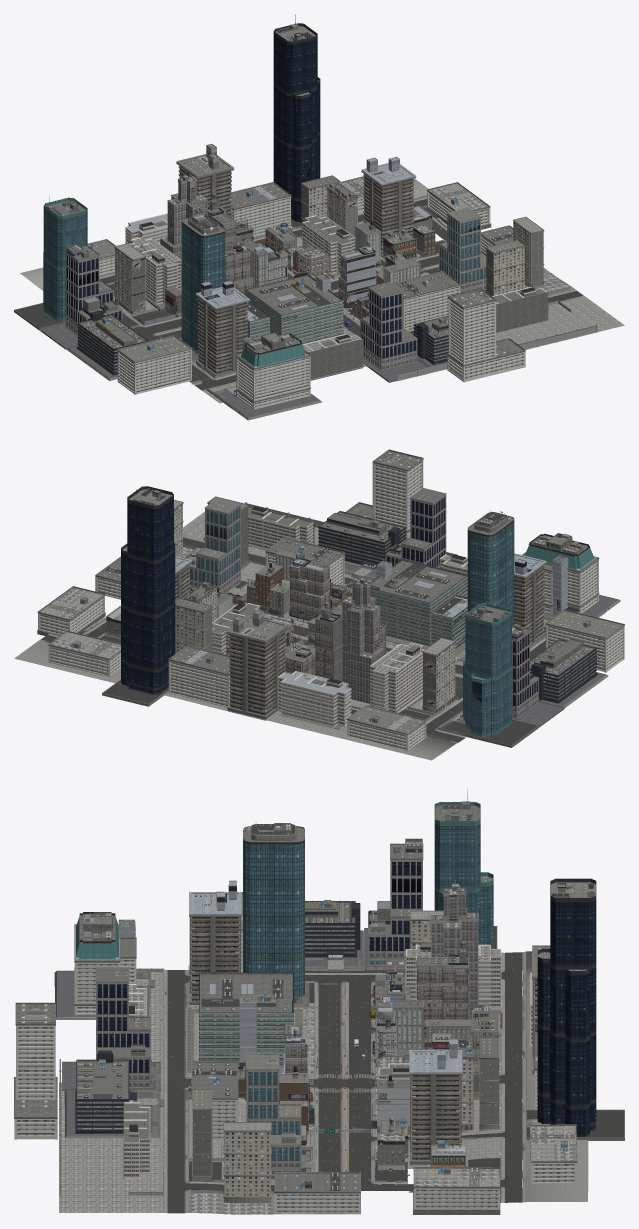
The model's file is city.glb.
3 views of the same model, one above another, from view 1: azimuth 30°, elevation 25°; view 2: azimuth 150°, elevation 25°; view 3: azimuth 270°, elevation 25° (orthographic). The views are drawn at different scales.
Visible parts, largest first — view 1: Object_40, Object_224, Object_18, Object_366, Object_14, Object_290, Object_302, Object_412, Object_204, Object_276, Object_348, Object_320 (+16 smaller); view 2: Object_40, Object_224, Object_18, Object_366, Object_14, Object_290, Object_354, Object_302, Object_412, Object_348, Object_272, Object_204 (+14 smaller); view 3: Object_40, Object_204, Object_412, Object_18, Object_366, Object_224, Object_290, Object_14, Object_302, Object_376, Object_272, Object_348 (+20 smaller).
Part boxes in pixels (x1=…): Object_40: x1=14, y1=176, x2=597, y2=420; Object_224: x1=99, y1=191, x2=525, y2=409; Object_18: x1=66, y1=35, x2=415, y2=358; Object_366: x1=43, y1=209, x2=486, y2=353; Object_14: x1=65, y1=175, x2=486, y2=370; Object_290: x1=87, y1=23, x2=544, y2=406; Object_302: x1=176, y1=162, x2=416, y2=375; Object_412: x1=20, y1=178, x2=624, y2=403; Object_204: x1=15, y1=199, x2=583, y2=389; Object_276: x1=127, y1=146, x2=430, y2=399; Object_348: x1=78, y1=183, x2=448, y2=371; Object_320: x1=115, y1=182, x2=531, y2=310; Object_40: x1=37, y1=449, x2=620, y2=747; Object_224: x1=38, y1=460, x2=624, y2=750; Object_18: x1=121, y1=497, x2=537, y2=706; Object_366: x1=190, y1=507, x2=514, y2=734; Object_14: x1=189, y1=494, x2=538, y2=718; Object_290: x1=48, y1=488, x2=624, y2=734; Object_354: x1=212, y1=509, x2=467, y2=728; Object_302: x1=175, y1=561, x2=546, y2=720; Object_412: x1=14, y1=512, x2=548, y2=760; Object_348: x1=191, y1=520, x2=595, y2=699; Object_272: x1=105, y1=486, x2=597, y2=703; Object_204: x1=41, y1=512, x2=545, y2=745; Object_40: x1=14, y1=801, x2=574, y2=1214; Object_204: x1=167, y1=824, x2=624, y2=1213; Object_412: x1=59, y1=911, x2=588, y2=1212; Object_18: x1=97, y1=862, x2=596, y2=1136; Object_366: x1=243, y1=824, x2=493, y2=1160; Object_224: x1=14, y1=930, x2=576, y2=1214; Object_290: x1=83, y1=882, x2=624, y2=1203; Object_14: x1=96, y1=860, x2=478, y2=1175; Object_302: x1=189, y1=914, x2=537, y2=1165; Object_376: x1=163, y1=951, x2=526, y2=1213; Object_272: x1=75, y1=827, x2=596, y2=1136; Object_348: x1=77, y1=900, x2=472, y2=1148.
Bounding box in the file's own units: 167 × 70.38 × 151.
100 materials, 99 textured.
